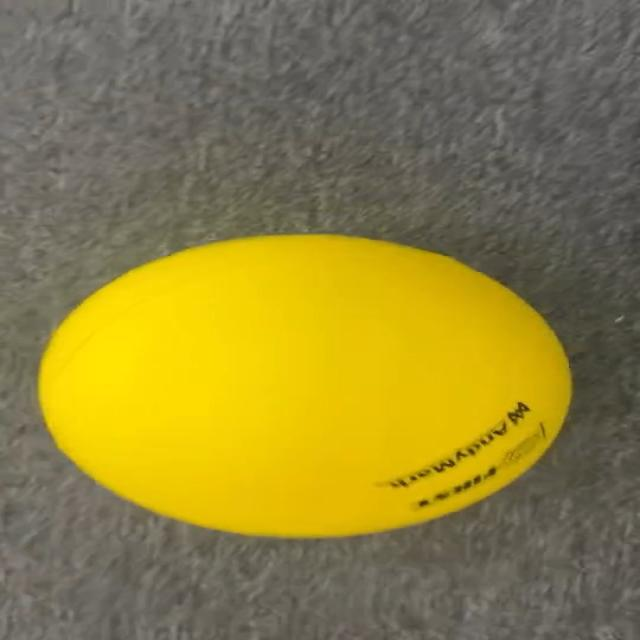Fuels: (38, 236, 571, 535)
